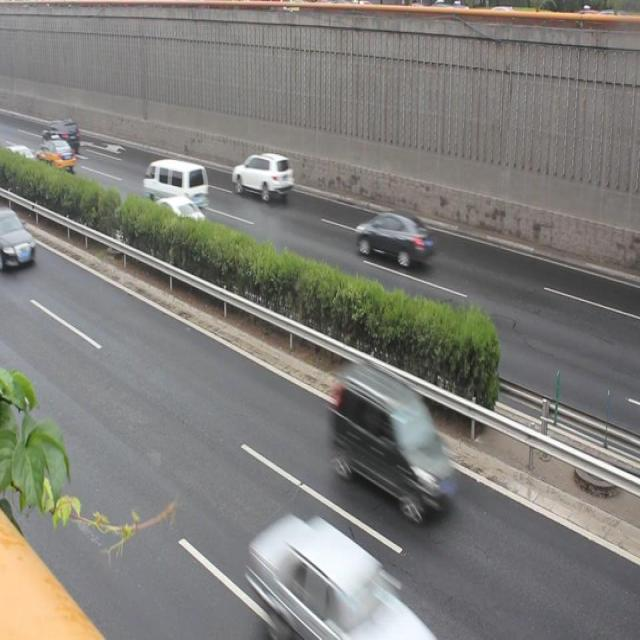car: (252, 514, 426, 640), (330, 362, 453, 516), (353, 208, 431, 268), (139, 196, 205, 247), (232, 150, 293, 200), (1, 203, 34, 266)
truck: (141, 159, 209, 210)
